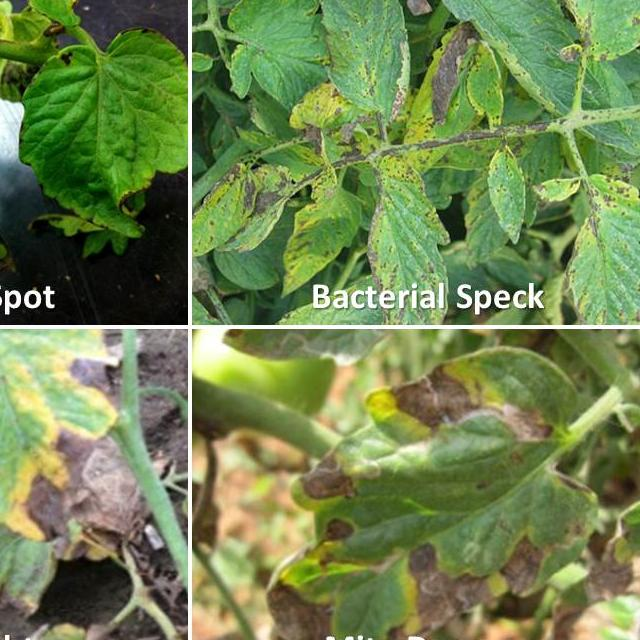Tomato leaf bacterial spot: (0, 36, 186, 267), (0, 340, 134, 640), (441, 0, 637, 162), (350, 132, 457, 320), (526, 164, 640, 317), (307, 0, 421, 138), (475, 125, 546, 242), (460, 32, 511, 123), (0, 38, 10, 306)
